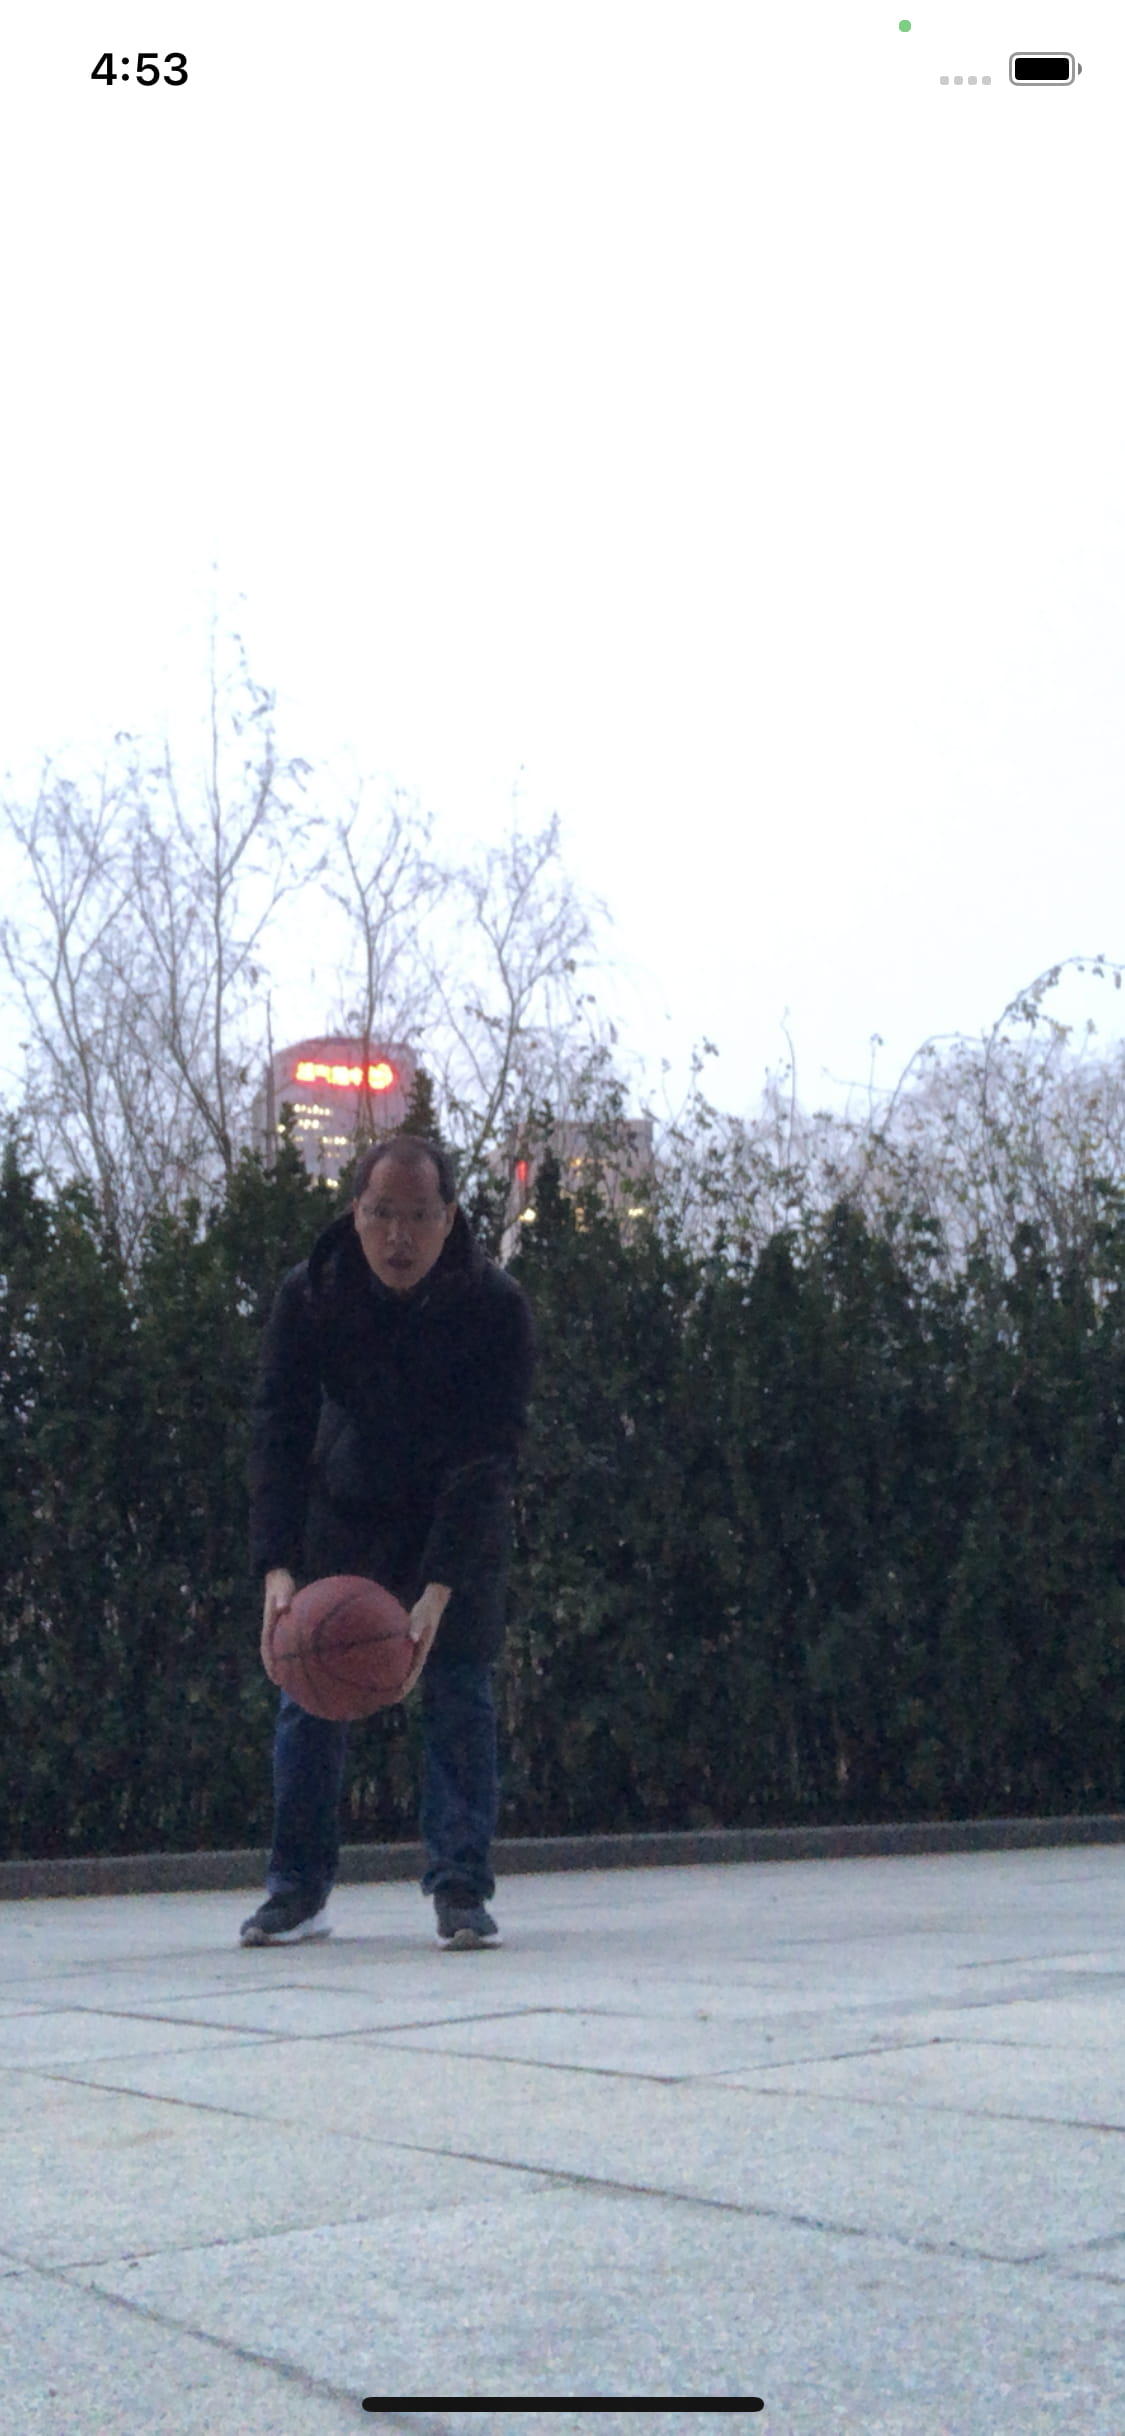ball: (259, 1568, 412, 1720)
